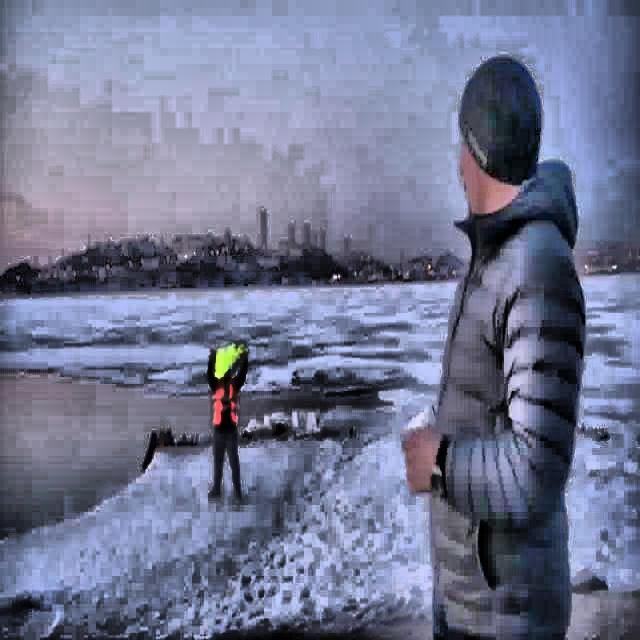safety_jacket: (211, 343, 249, 380), (213, 376, 239, 426)
